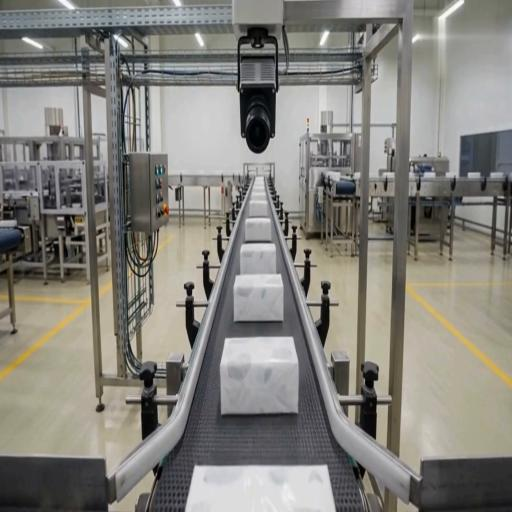good: (186, 461, 335, 512), (220, 336, 297, 416), (232, 274, 285, 324), (239, 242, 277, 274), (242, 216, 272, 244), (246, 198, 270, 220), (249, 184, 268, 200)
